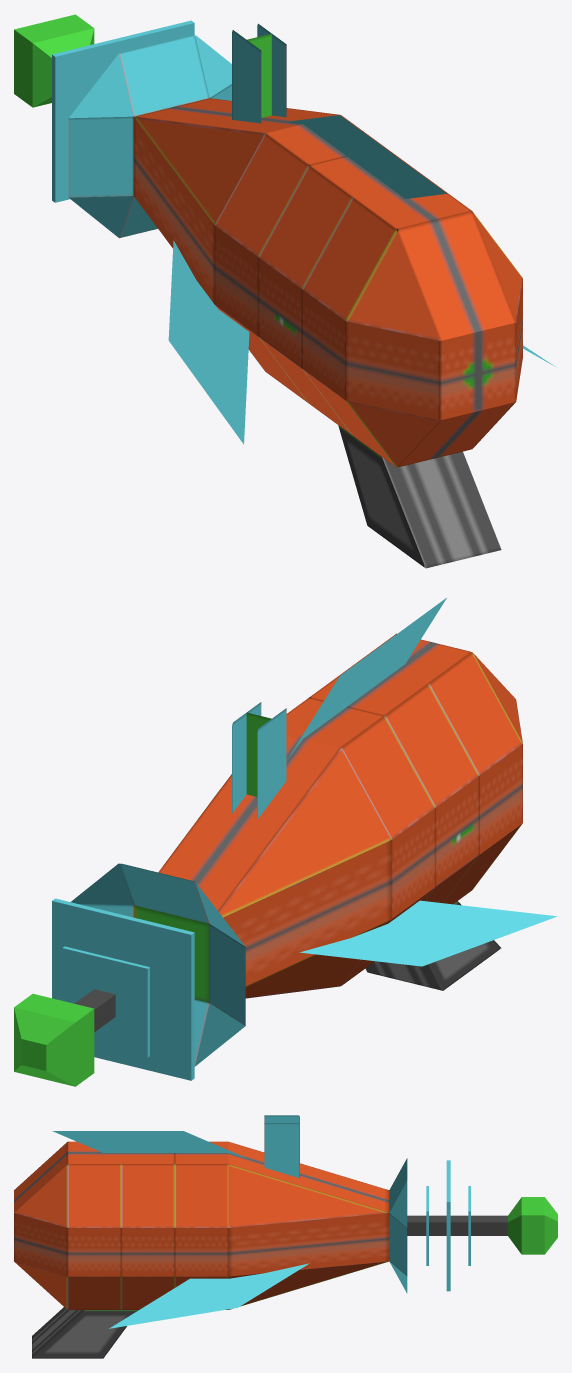
Rendered from retro_futurism_gun.fbx.
The picture shows the model from 3 angles, top to bottom: view 1: azimuth 30°, elevation 25°; view 2: azimuth 150°, elevation 25°; view 3: azimuth 270°, elevation 25°; orthographic projection. The views are drawn at different scales.
Visible parts, largest first — view 1: Plane.001; view 2: Plane.001; view 3: Plane.001.
Part boxes in pixels (left/top/right/bottom): Plane.001: left=14, top=14, right=555, bottom=568; Plane.001: left=14, top=598, right=557, bottom=1086; Plane.001: left=14, top=1115, right=557, bottom=1358.
Size of the model in its own units: 621 by 705 by 1522.
